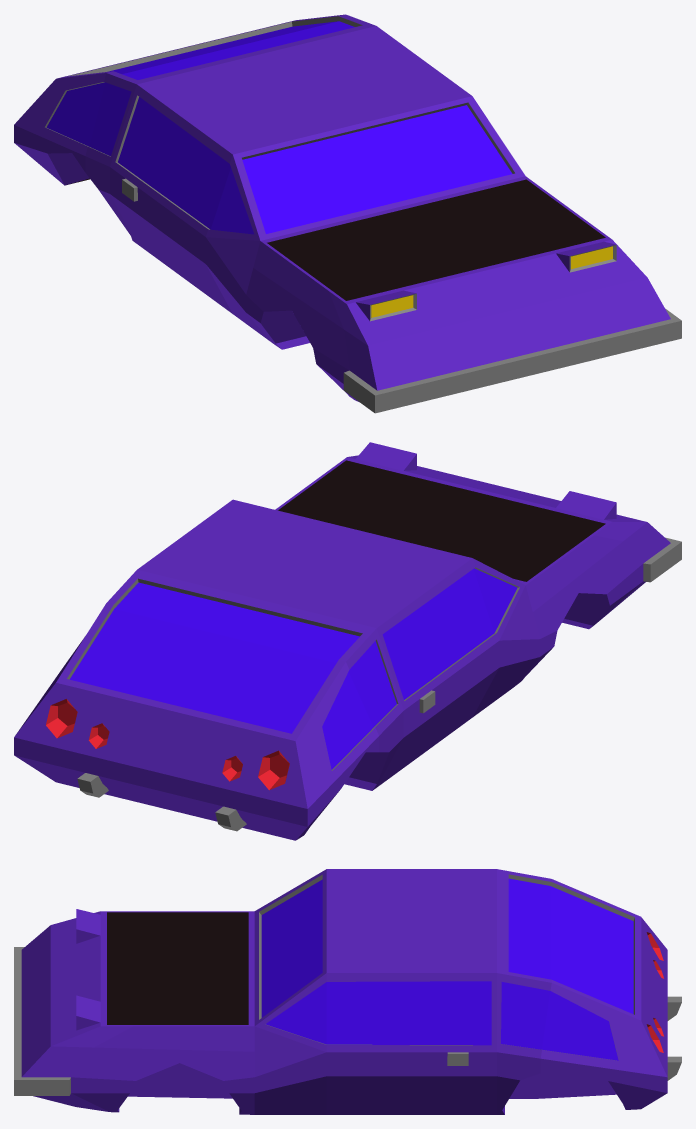
Rendered from JPNCarW 1.fbx.
The picture shows the model from 3 angles, top to bottom: view 1: azimuth 30°, elevation 25°; view 2: azimuth 150°, elevation 25°; view 3: azimuth 270°, elevation 25°; orthographic projection. The views are drawn at different scales.
Parts seen in each view (by area): view 1: Cube.003; view 2: Cube.003; view 3: Cube.003.
Boxes of the visible parts, <box> form: Cube.003: <box>14,14,681,413</box>; Cube.003: <box>14,442,681,840</box>; Cube.003: <box>14,869,681,1114</box>.
Size of the model in its own units: 200 by 99.33 by 424.
